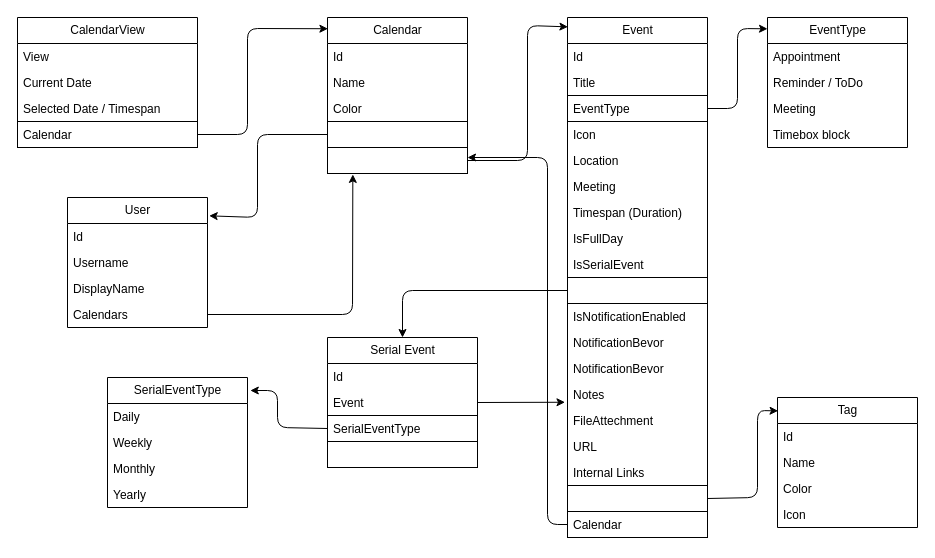
Some shapes in this 935 by 558 pixel diagram are drawn without their labels. Each missing label, with the centre of its shape:
"Events" belongs at (397,160).
"Owner" belongs at (397,134).
"SerialEvent" belongs at (637,290).
"SerialEventDataProvider" belongs at (402,454).
"Tags" belongs at (637,498).
